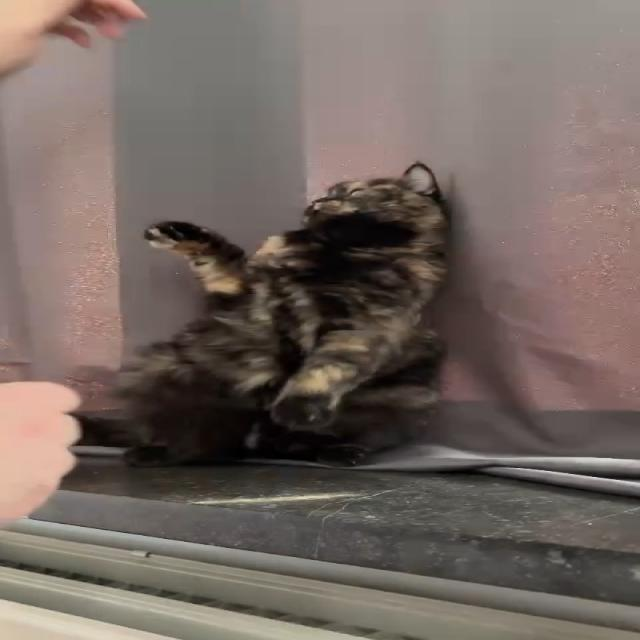authorized: (71, 160, 452, 468)
